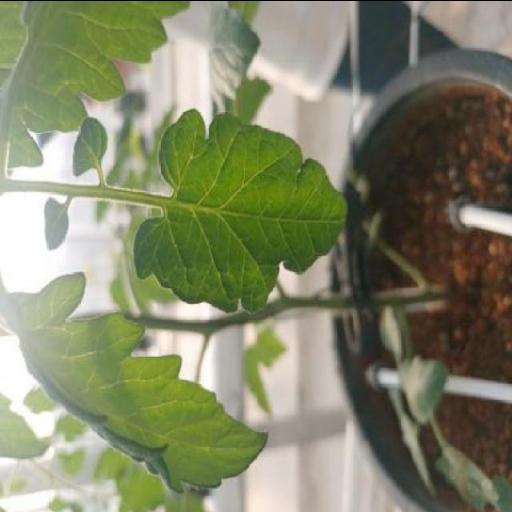Healthy: (7, 272, 267, 491), (134, 106, 348, 312)
